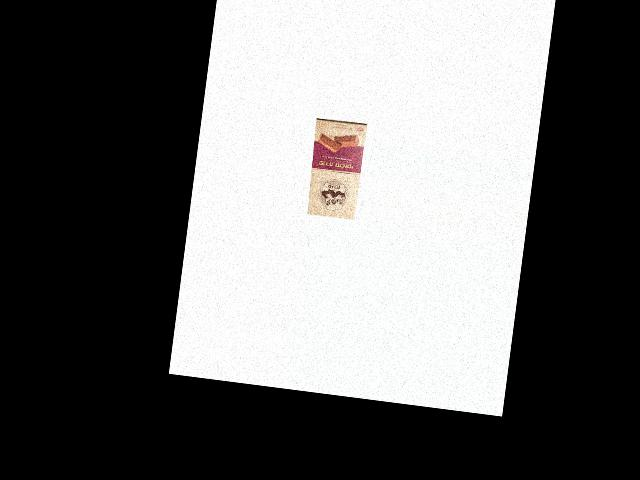chocolate: (302, 117, 365, 220)
